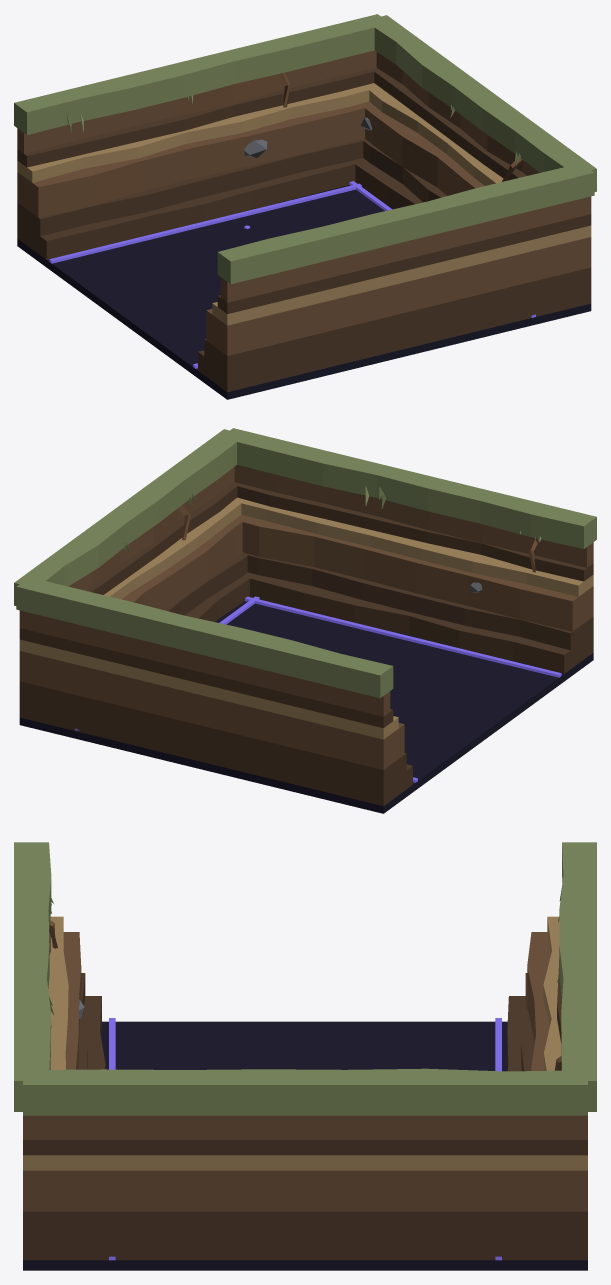
The model's file is Chasm 3.fbx.
3 renders of one model, top to bottom at view 1: azimuth 30°, elevation 25°; view 2: azimuth 150°, elevation 25°; view 3: azimuth 270°, elevation 25°, orthographic. The views are drawn at different scales.
Visible parts, largest first — view 1: Chasm 3; view 2: Chasm 3; view 3: Chasm 3.
Part boxes in pixels (bbox=[...]): Chasm 3: bbox=[14, 14, 596, 399]; Chasm 3: bbox=[14, 428, 596, 813]; Chasm 3: bbox=[14, 842, 596, 1270].
Size of the model in its own units: 1.02 by 0.37 by 1.03.
